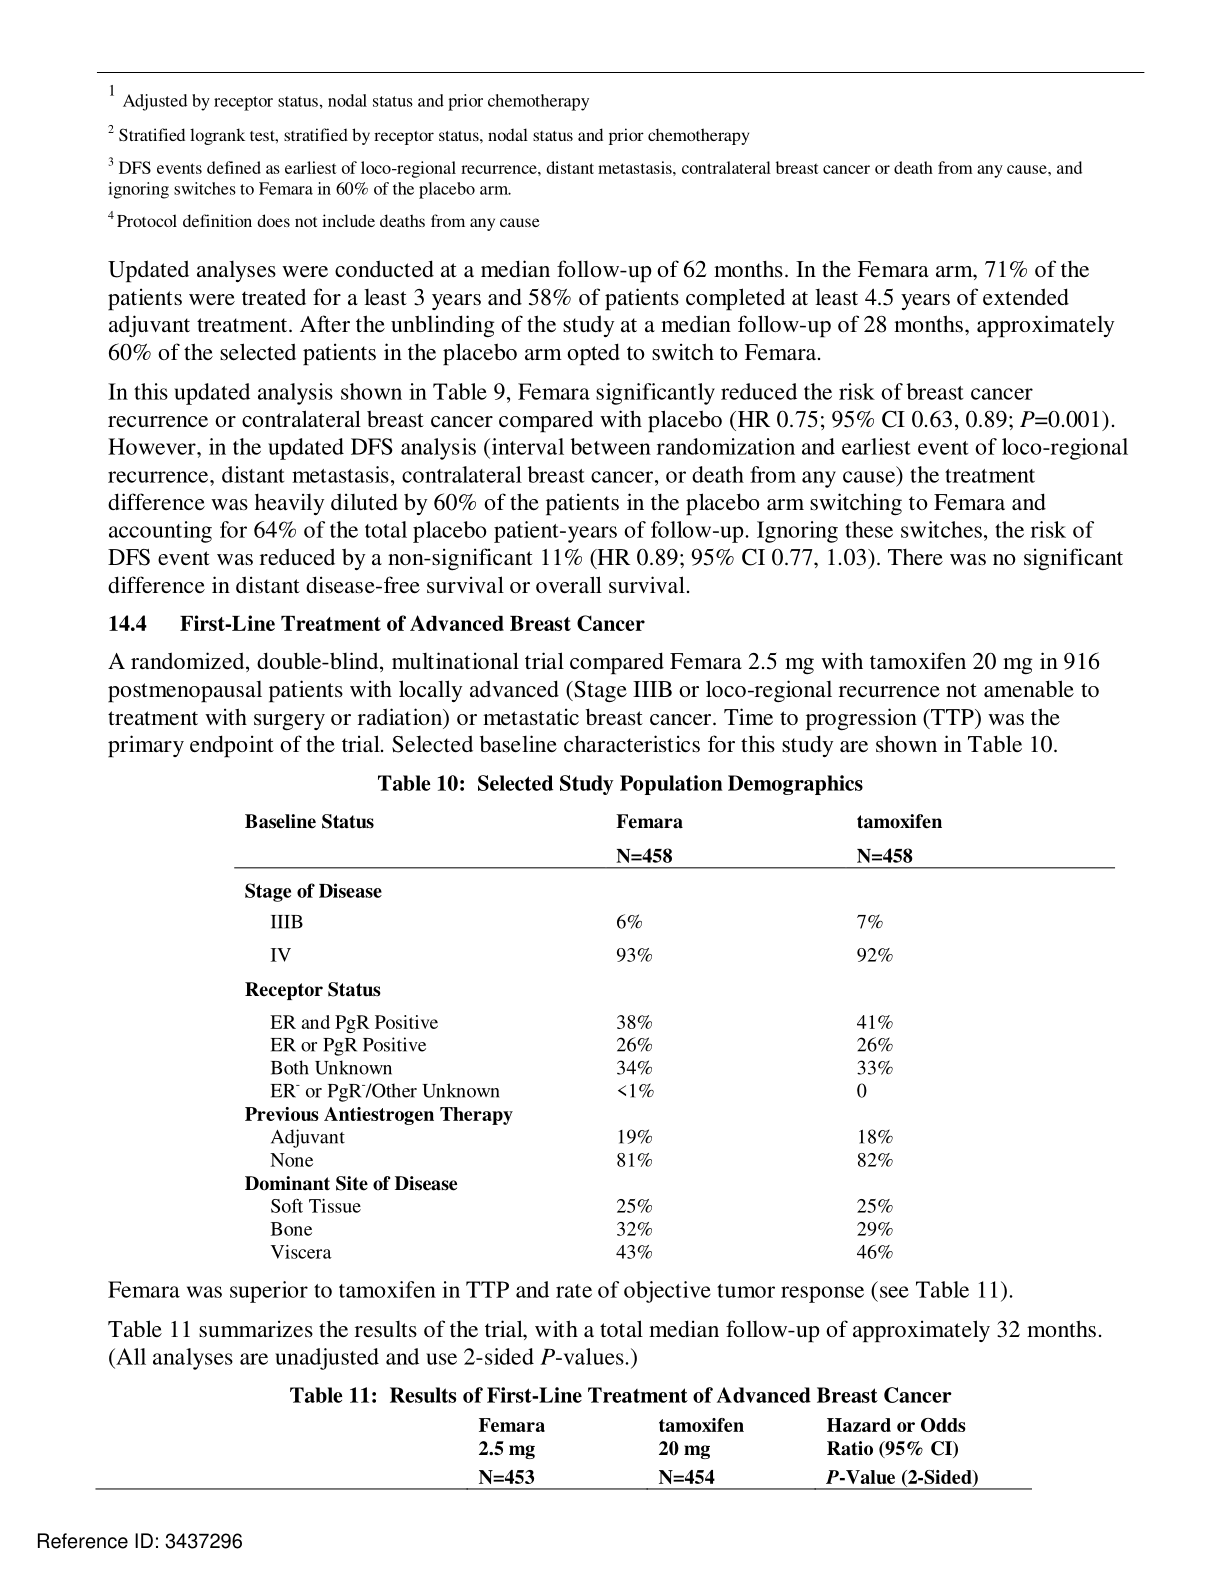partial_lined: (98, 1413, 1032, 1493)
partial_lined_merged_cells: (237, 809, 1115, 1260)
